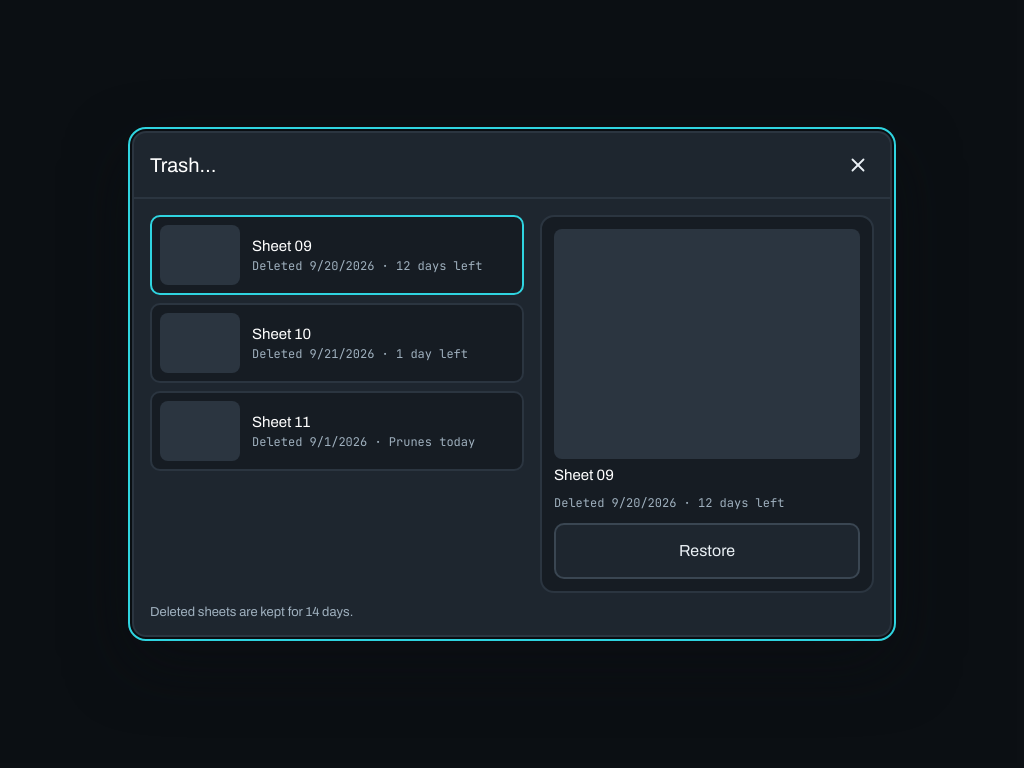
Test: read-only preview + Restore (P §11.9:2029) › enters an honest restoring state and does NOT claim success on its own
Click the button with test id "trash-restore-t1" at x=707, y=551, box [554,523,860,579]
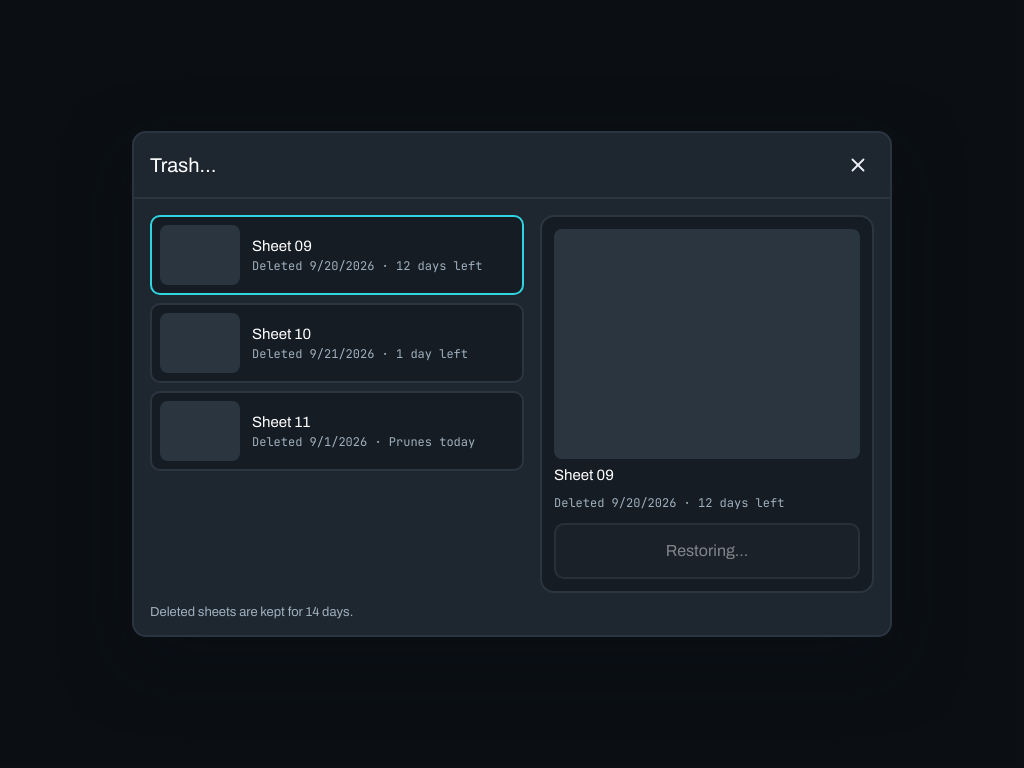
Expected: the button with test id "trash-row-t1" is shown, [150,215,524,295]
Now the button with test id "trash-restore-t1" is disabled, box [554,523,860,579]
Now the button with test id "trash-restore-t1" reads "Restoring…", box [554,523,860,579]
